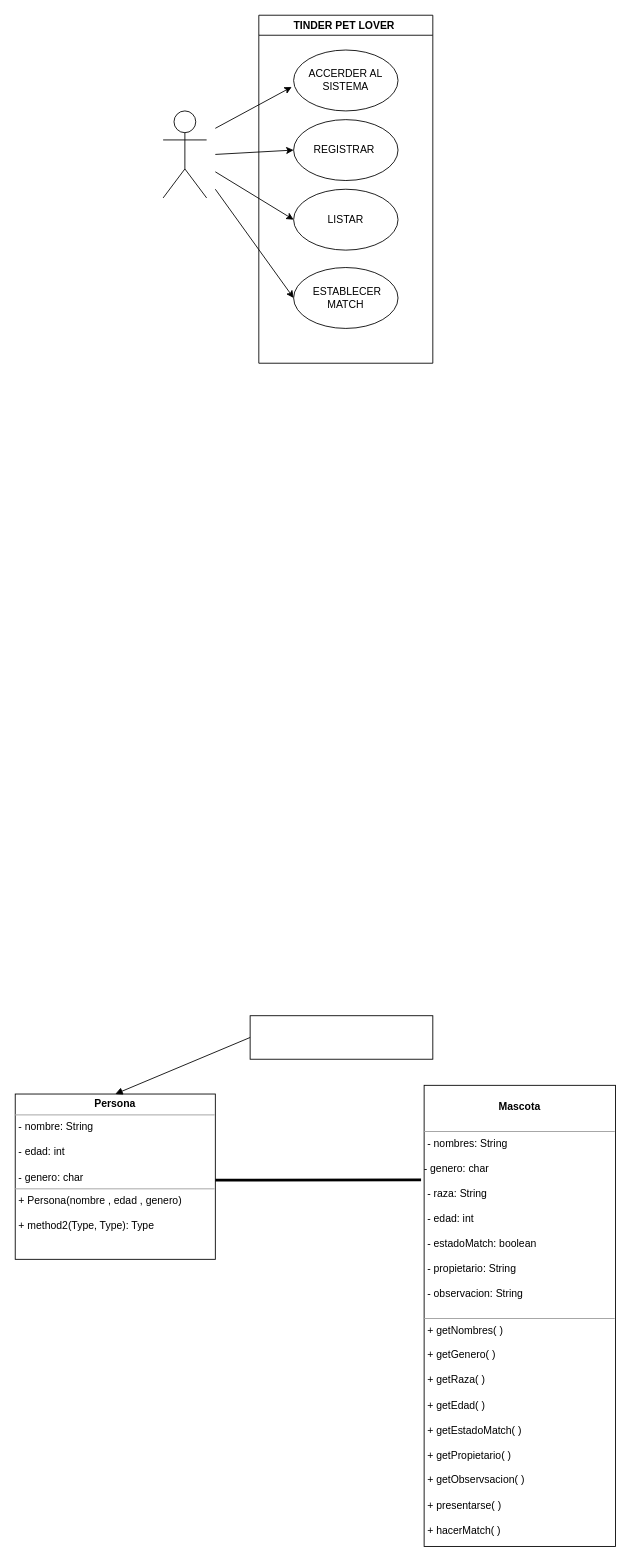
This 631x1562 diagram has some shape labels left out. The shapes that lost their labels are listed below. From the top down, each one's centre as x and y in pixels, then its label:
At point (184, 154): "DUEÑO DE MASCOTA".
At point (341, 1037): "Propietario + Propietario(nombre, edad, genero)".
